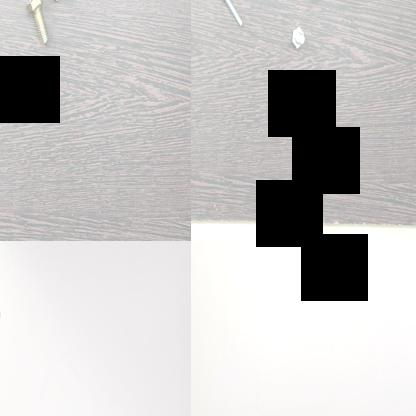Bolts: (22, 0, 50, 46), (287, 18, 308, 54), (217, 0, 243, 28)
